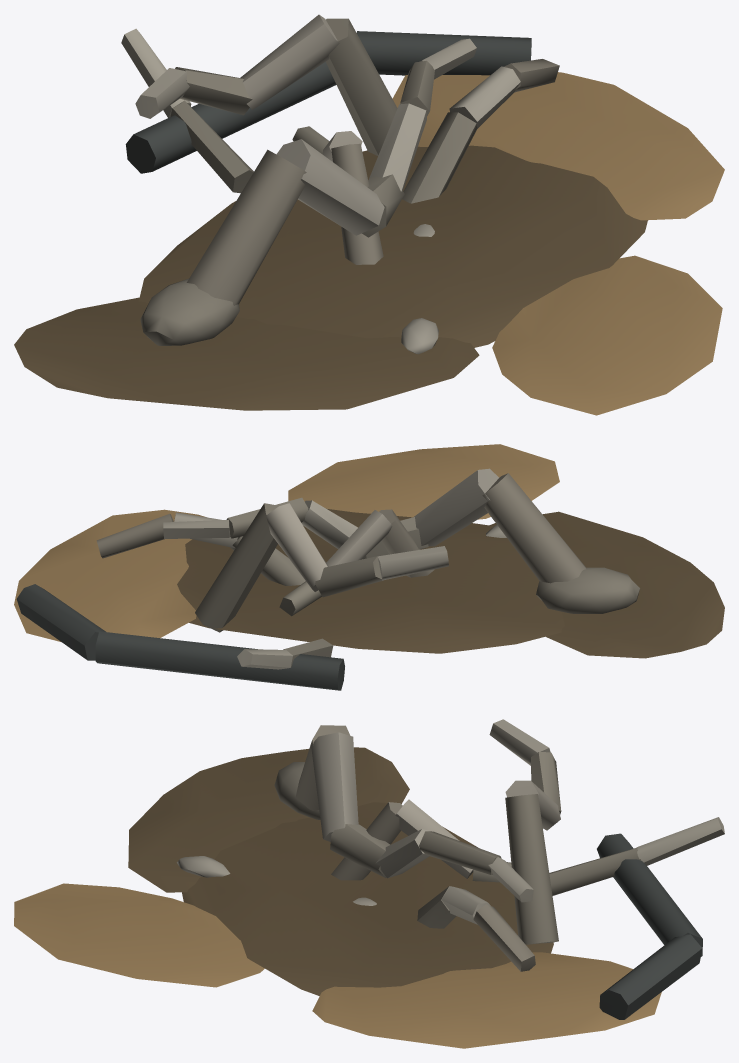
The model's file is fulgurite_a_lod1.glb.
The picture shows the model from 3 angles, top to bottom: view 1: azimuth 30°, elevation 25°; view 2: azimuth 150°, elevation 25°; view 3: azimuth 270°, elevation 25°; orthographic projection. The views are drawn at different scales.
Visible parts, largest first — view 1: Surface.001; view 2: Surface.001; view 3: Surface.001.
Boxes of the visible parts, x1=… form: Surface.001: x1=14, y1=14, x2=724, y2=415; Surface.001: x1=14, y1=444, x2=724, y2=690; Surface.001: x1=14, y1=719, x2=724, y2=1048.
Size of the model in its own units: 2.86 by 0.6588 by 2.86.
